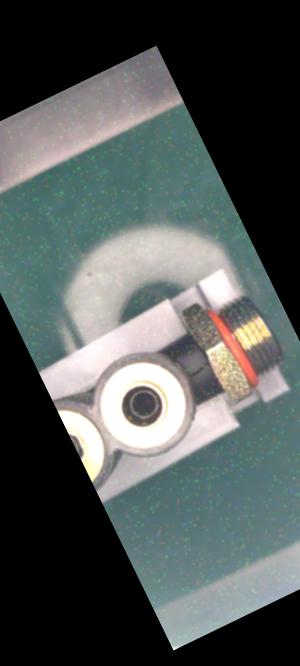craze: (185, 360, 211, 380)
